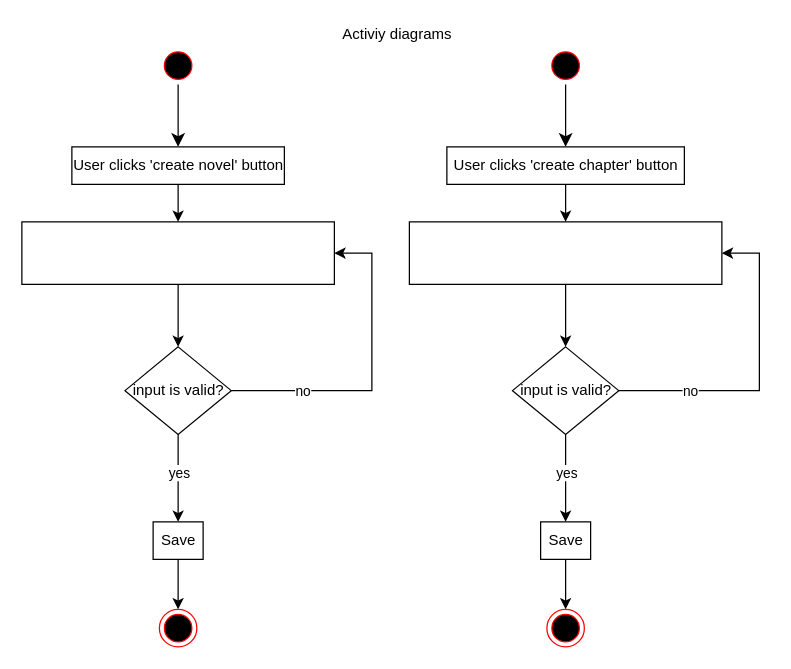
This 791x669 diagram has some shape labels left out. Here are the shapes that lost their labels. From the top down, the centre of each, then its label:
At point 177,252: "User enters title and description of the novel".
At point 565,252: "User enters title and body of the chapter".
